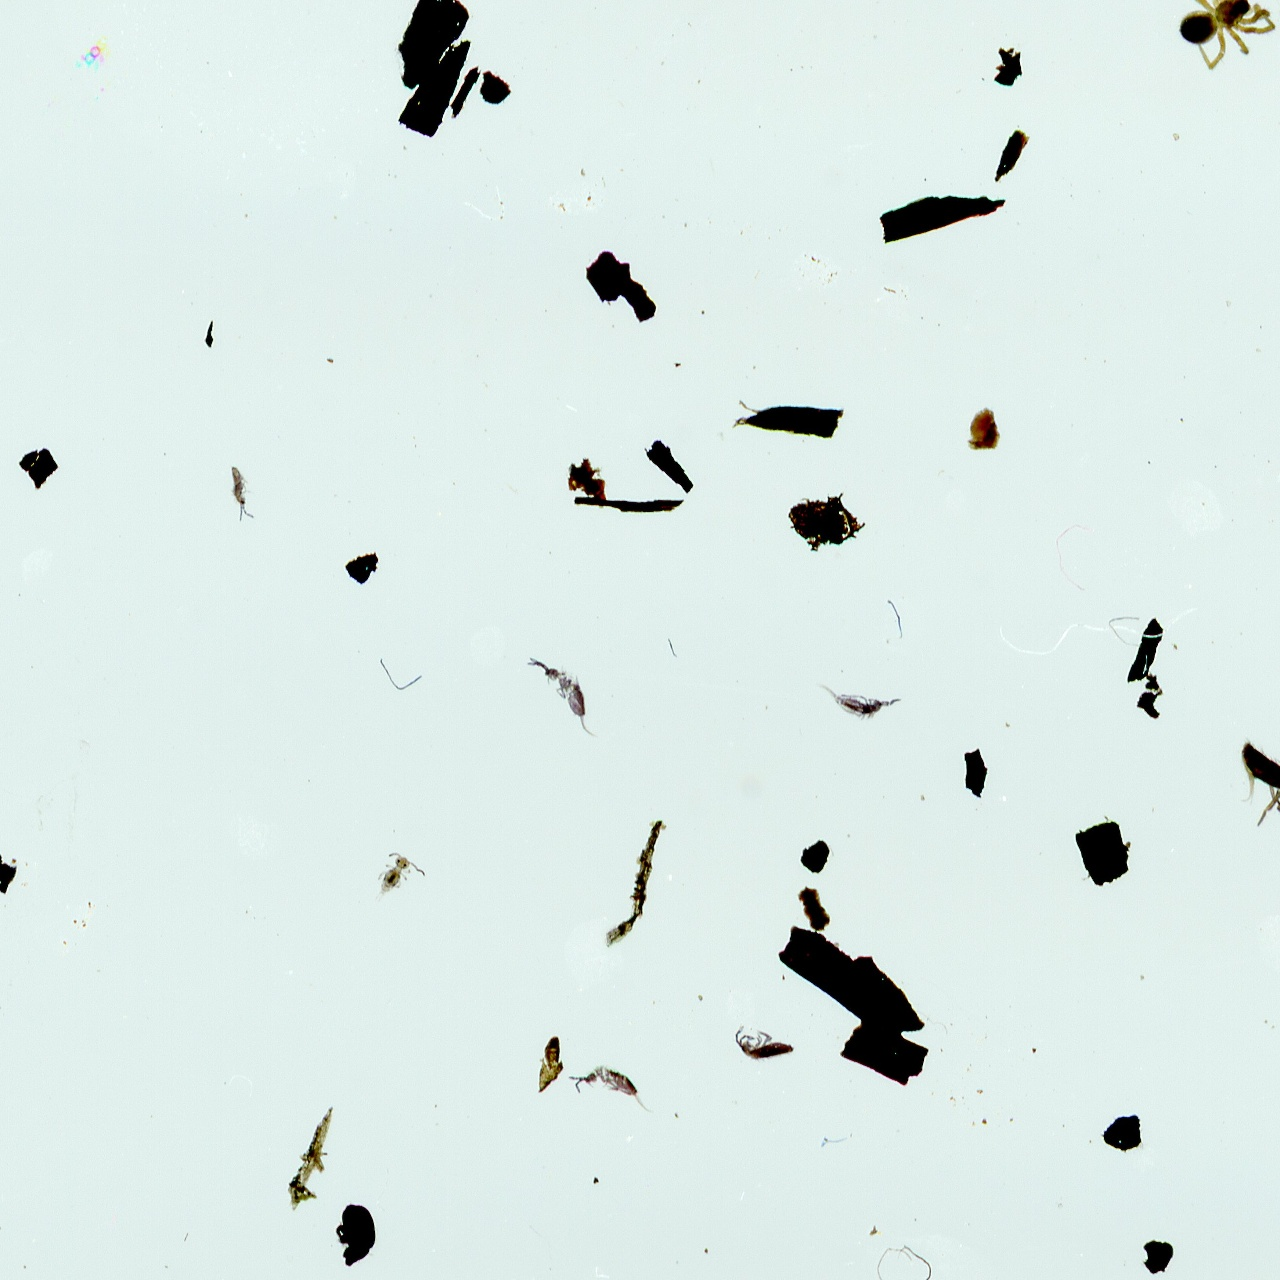arthropod: (1170, 0, 1280, 76), (522, 653, 605, 745), (565, 1062, 658, 1120), (1235, 735, 1280, 847), (808, 677, 907, 724), (366, 849, 427, 911), (728, 1023, 802, 1065)
